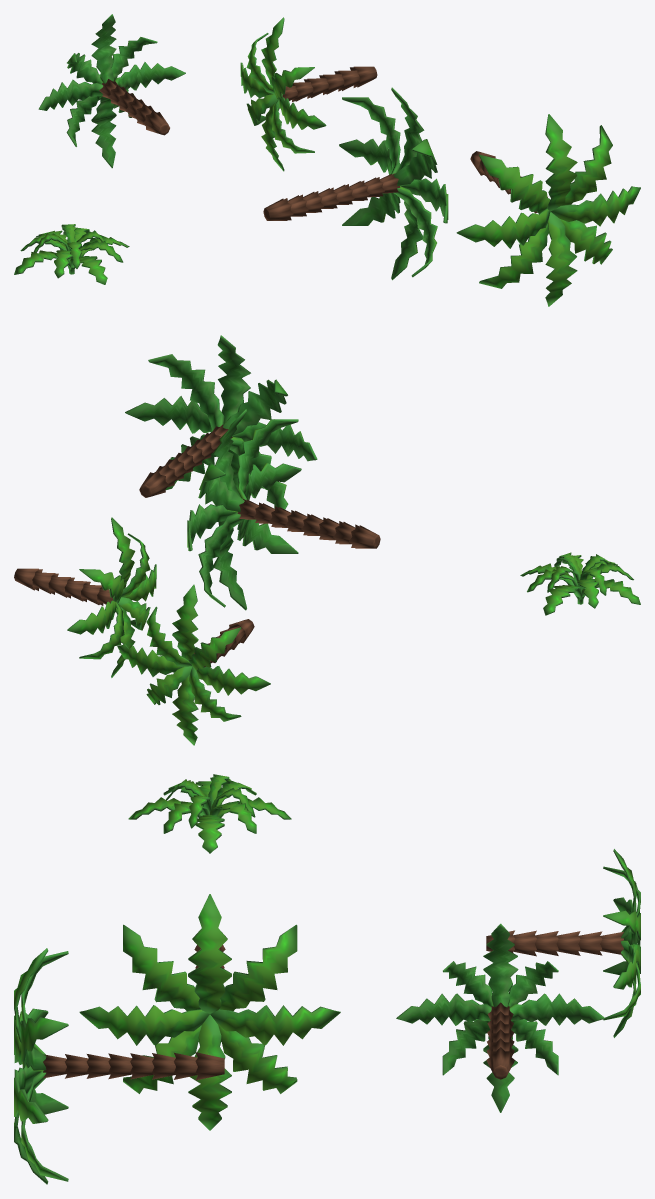
Rendered from Tropical Vegxccasetation.dae.
The picture shows the model from 3 angles, top to bottom: view 1: azimuth 30°, elevation 25°; view 2: azimuth 150°, elevation 25°; view 3: azimuth 270°, elevation 25°; orthographic projection. The views are drawn at different scales.
Parts seen in each view (by area): view 1: Cube.002, Cube.010, Cube, Cube.001, Cube.003; view 2: Cube.010, Cube.002, Cube, Cube.001, Cube.003; view 3: Cube.010, Cube.001, Cube.002, Cube, Cube.003.
Boxes of the visible parts, x1,y1,x2,y2 form: Cube.002: (456, 114, 640, 306); Cube.010: (263, 87, 448, 280); Cube: (38, 14, 185, 168); Cube.001: (240, 17, 377, 171); Cube.003: (14, 224, 129, 284); Cube.010: (187, 409, 380, 610); Cube.002: (125, 335, 317, 525); Cube: (117, 584, 270, 745); Cube.001: (14, 517, 156, 677); Cube.003: (520, 552, 640, 615); Cube.010: (79, 894, 340, 1130); Cube.001: (396, 923, 604, 1112); Cube.002: (14, 948, 224, 1184); Cube: (486, 849, 640, 1037); Cube.003: (128, 774, 291, 853).
Size of the model in its own units: 54.61 by 43.14 by 17.96.
2 materials, 2 textured.
